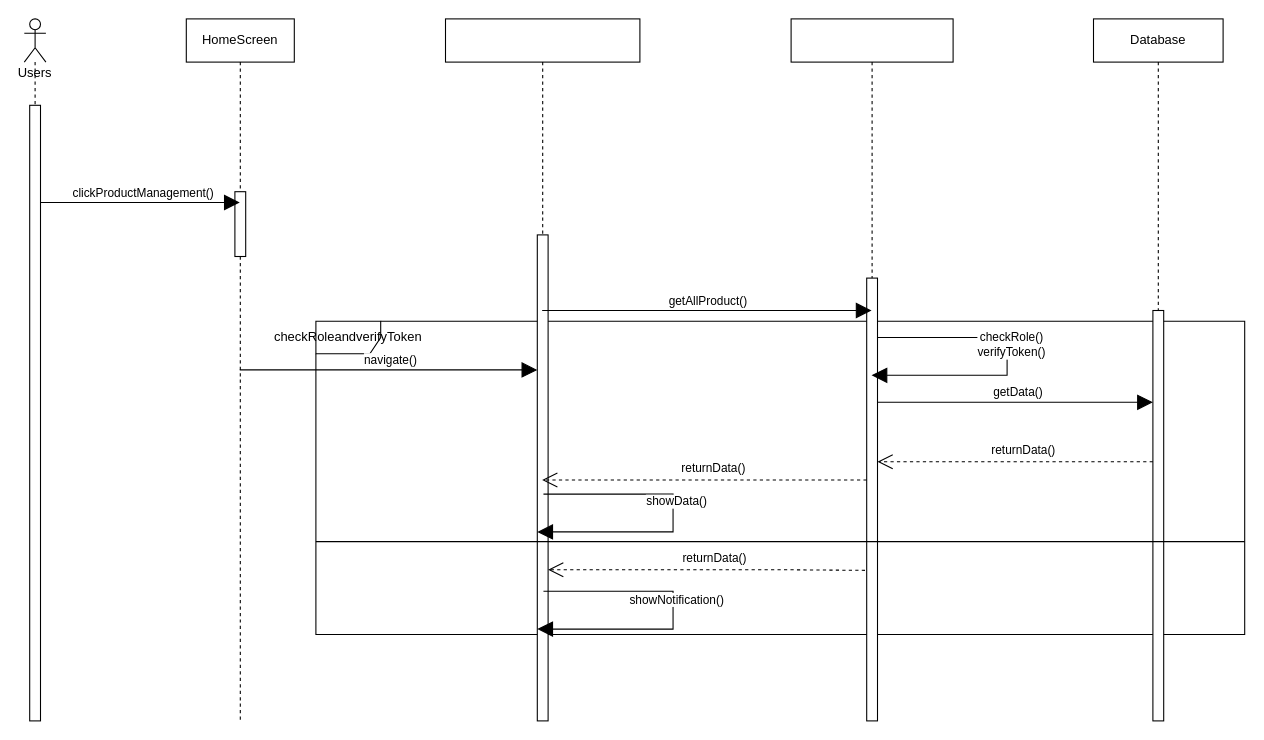
Some shapes in this 1264 by 740 pixel diagram are drawn without their labels. The shapes that lost their labels are listed below. From the top down, each one's box as (x1, y1, x2, y2) in pixels, then its label:
(444, 18, 640, 721): ProductManagementScreen
(790, 18, 953, 721): ProductController
